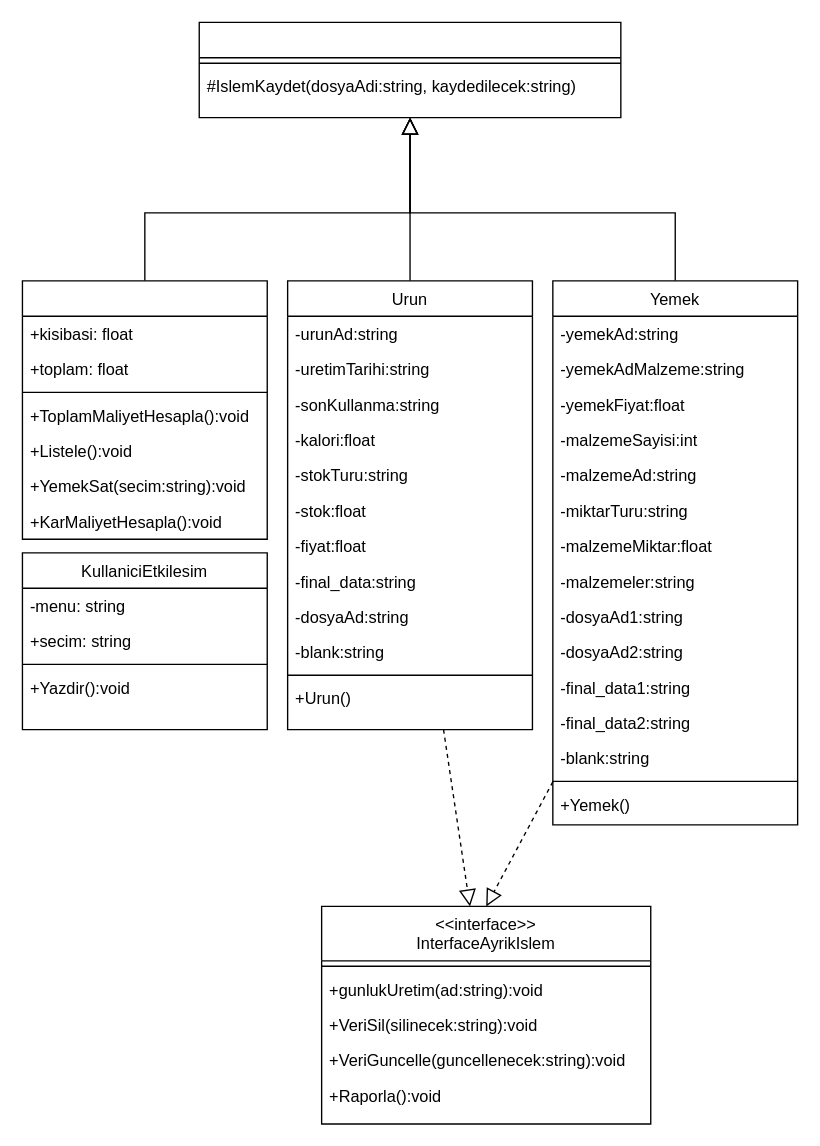
Some shapes in this 820 by 1146 pixel diagram are drawn without their labels. The shapes that lost their labels are listed below. From the top down, each one's box as (x1, y1, x2, y2) in pixels, then its label:
(198, 21, 621, 118): OrtakIslem
(21, 279, 267, 539): KarMaliyyet
